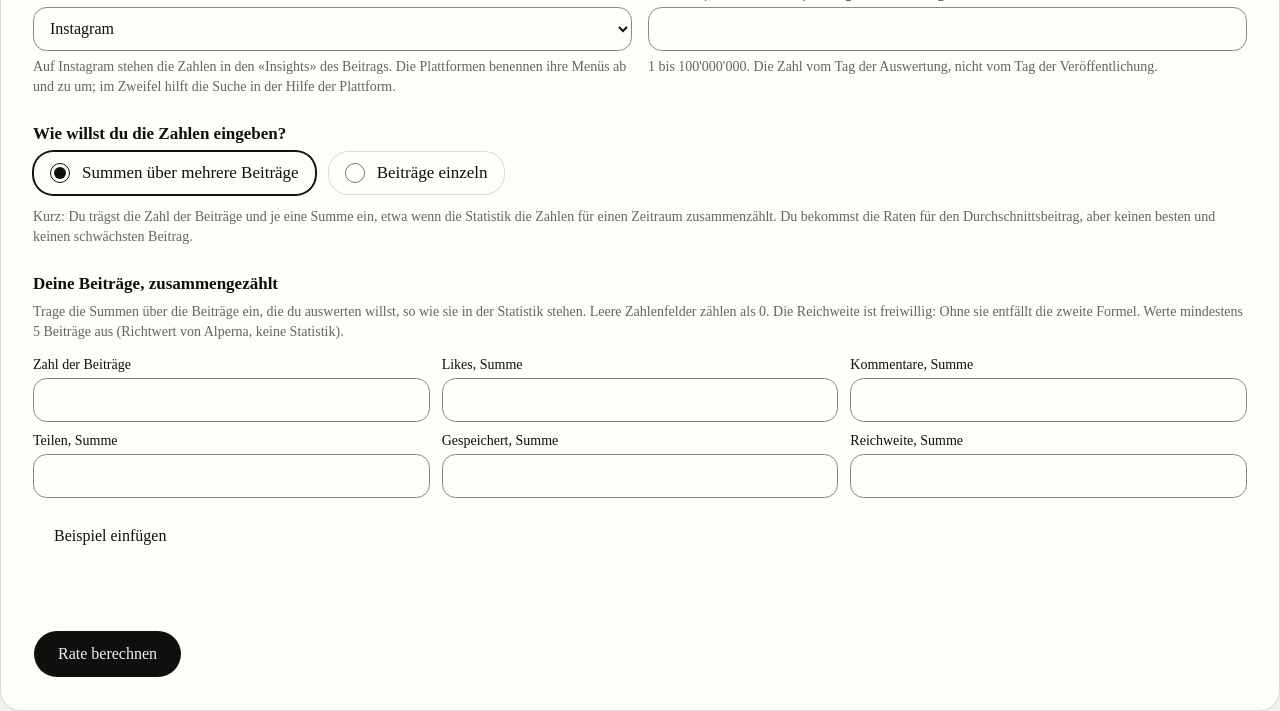
Test: Engagement-Rate-Rechner im Browser › fragt vor dem ersten Ergebnis nach der E-Mail-Adresse und lässt das Formular stehen, wenn das Fenster geschlossen wird
(page scrolled)
Click the button "Beispiel einfügen". click: (110, 536)
box: [33,514,187,558]
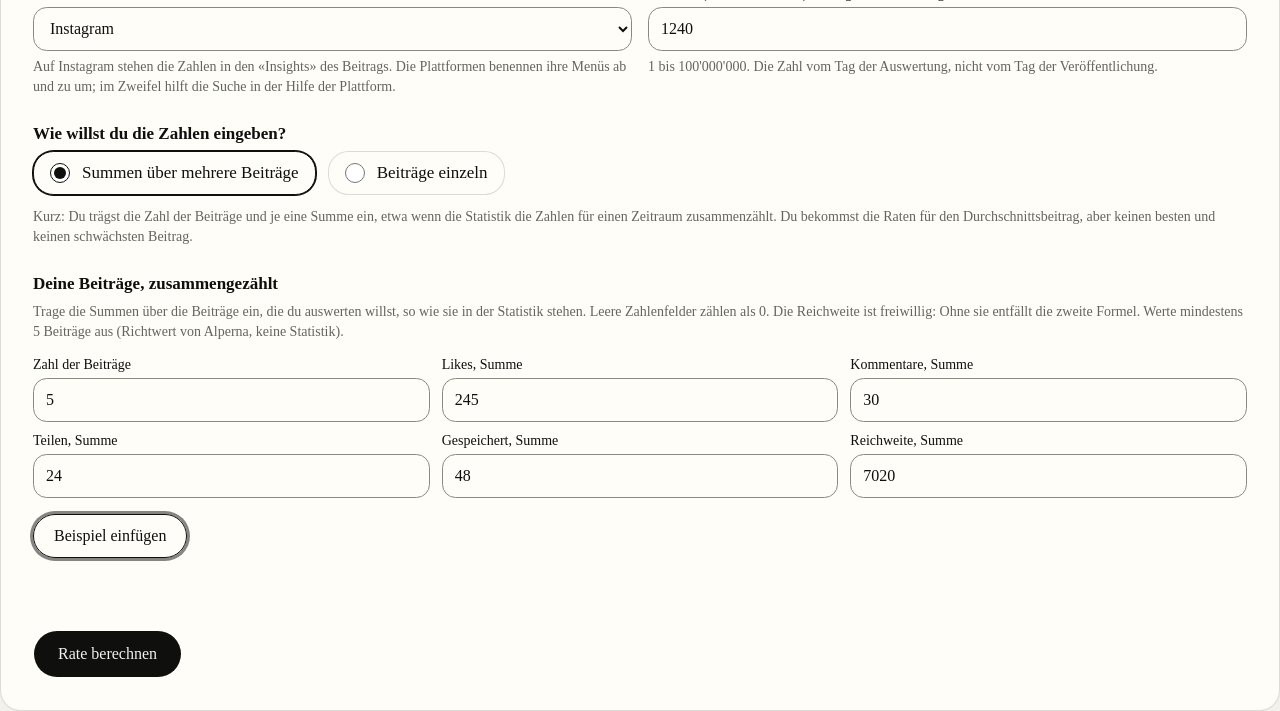
Click the button "Rate berechnen". click: (108, 654)
box: [33,630,182,678]
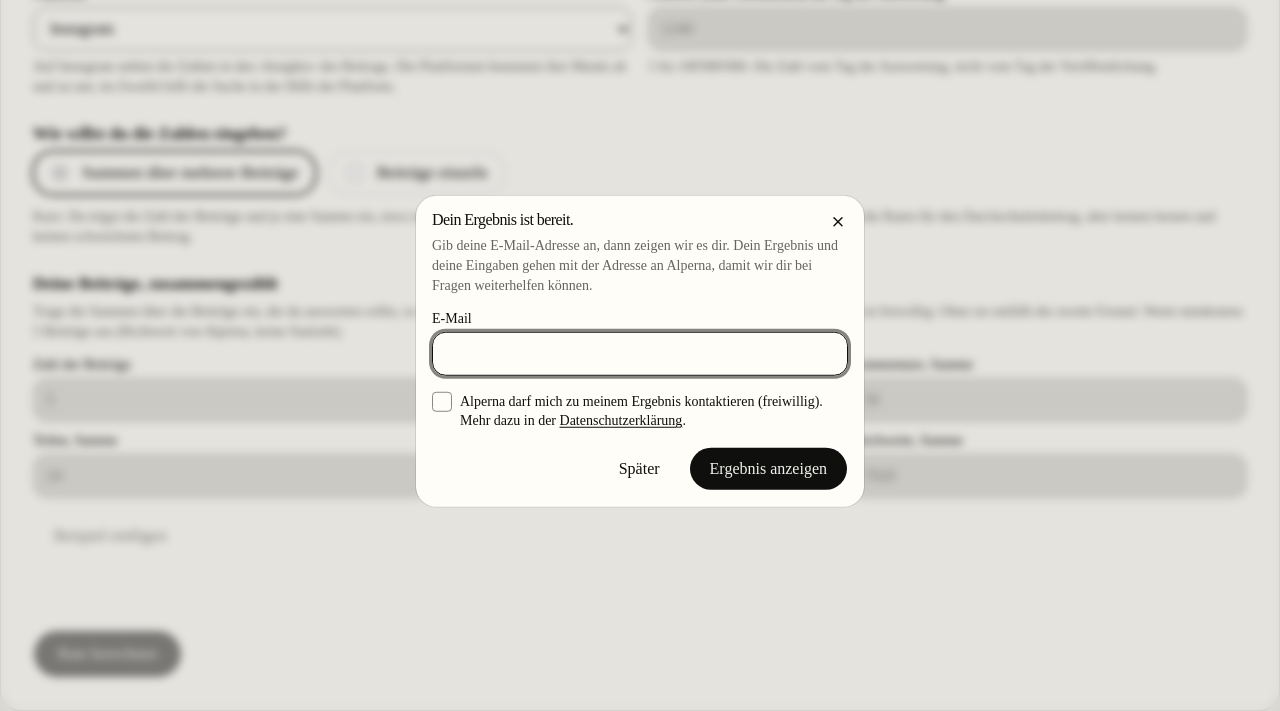
Check: the heading "Dein Ergebnis ist bereit." is shown, box [432,211,573,228]
Click the button "Später". click: (639, 468)
box: [598,446,681,490]
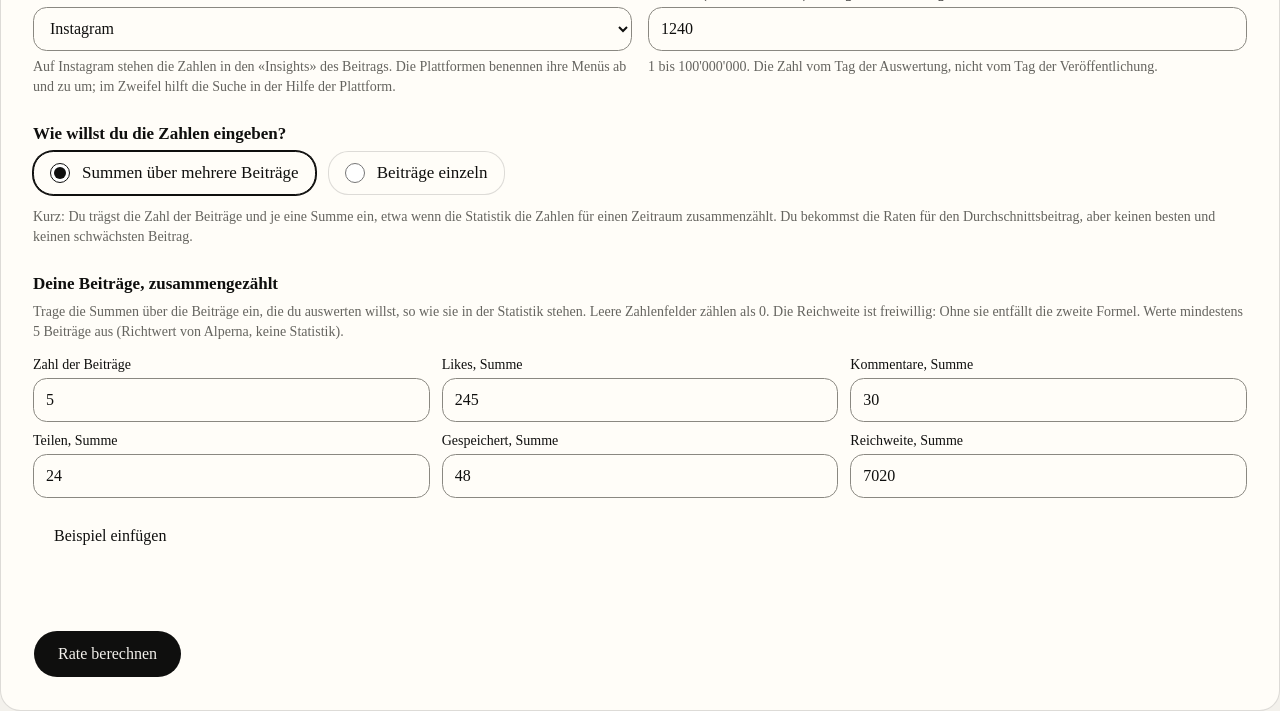
Check: the number field labelled "Zahl der Beiträge" holds "5", box [33,378,430,422]
Check: the number field labelled "Likes, Summe" holds "245", box [442,378,838,422]
Check: the dialog is gone
